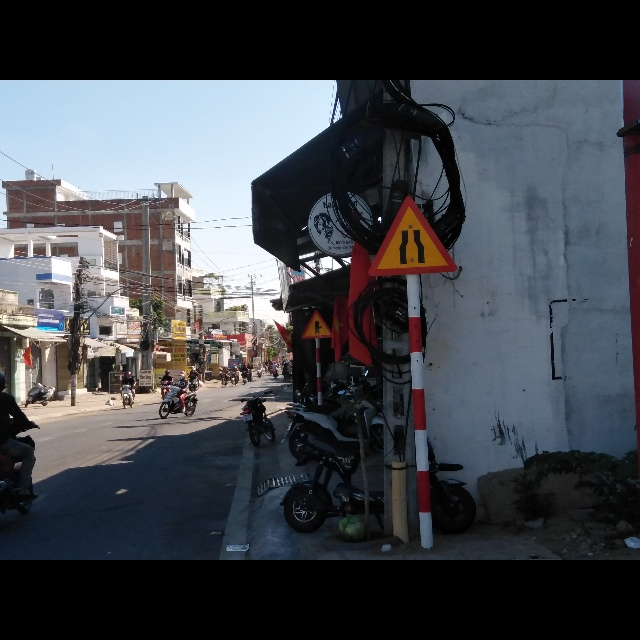Giao nhau với đường không ưu tiên: (300, 310, 333, 341)
Đường bị hẹp cả hai bên: (365, 195, 459, 274)
